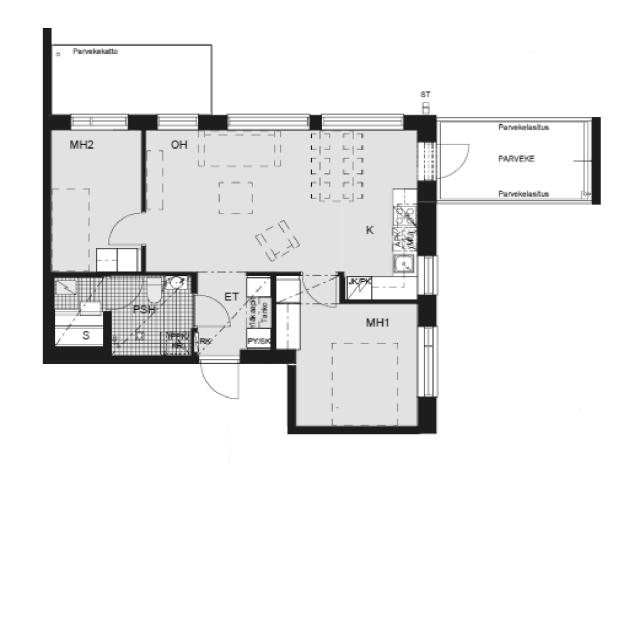door: (198, 356, 246, 392), (423, 142, 471, 178), (189, 288, 228, 328), (299, 273, 339, 312), (109, 211, 149, 244)
window: (224, 109, 320, 134), (316, 110, 409, 134), (414, 328, 440, 398), (61, 112, 129, 130), (152, 110, 202, 134), (418, 253, 441, 299)
zone: (143, 121, 423, 302), (268, 305, 417, 431), (45, 122, 146, 276), (42, 276, 199, 357), (194, 274, 270, 359)
